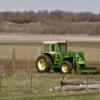Tractor: (27, 31, 100, 78)
